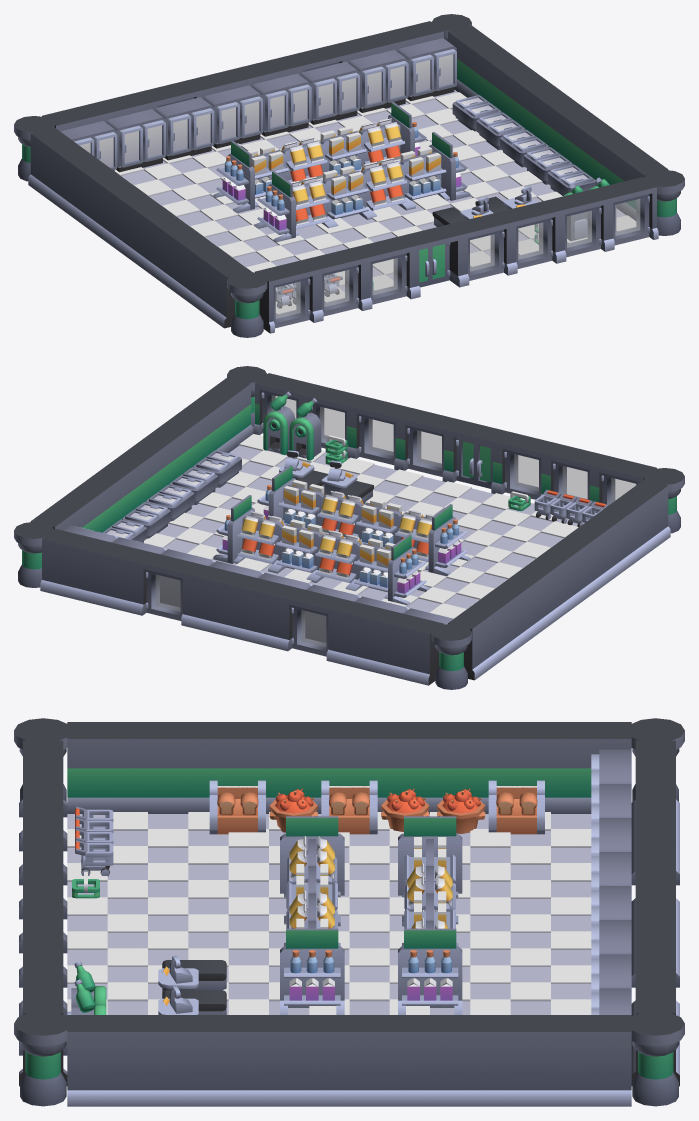
File: room.glb
3 views of the same model, one above another, from view 1: azimuth 30°, elevation 25°; view 2: azimuth 150°, elevation 25°; view 3: azimuth 270°, elevation 25° (orthographic). The views are drawn at different scales.
Visible parts, largest first — view 1: floor, (%ignore); view 2: floor, (%ignore); view 3: floor.
Boxes of the visible parts, box(x1,y1,x2,y2) form: floor: box(14, 14, 684, 337); (%ignore): box(275, 199, 640, 318); floor: box(14, 366, 684, 689); (%ignore): box(155, 395, 636, 646); floor: box(14, 718, 684, 1106).
Bounding box in the file's own units: 24.25 × 2.84 × 21.65.
Materials: 2 (1 with a texture image).
